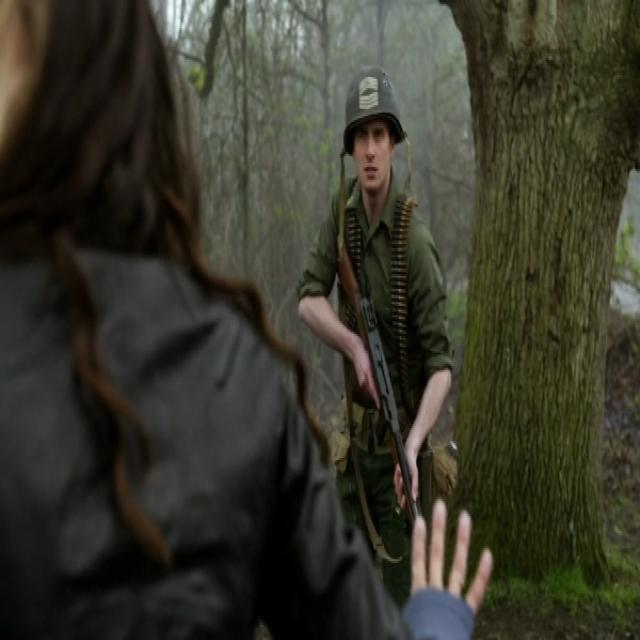rifle: (334, 228, 425, 528)
